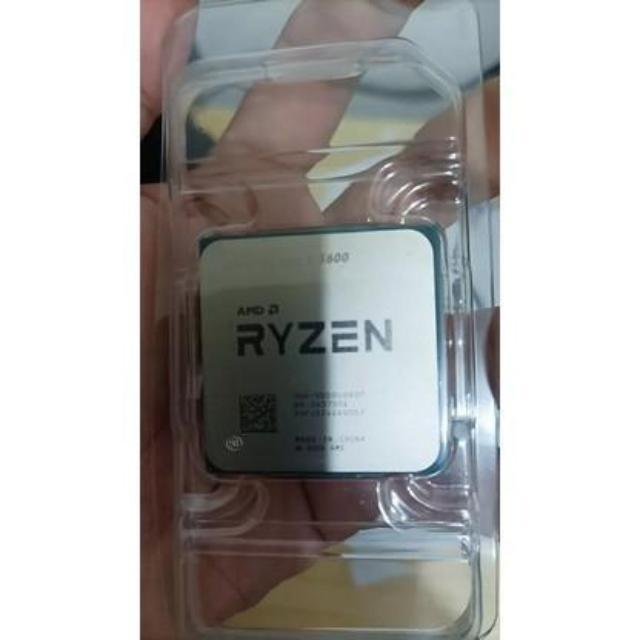CPU: (203, 238, 445, 474)
